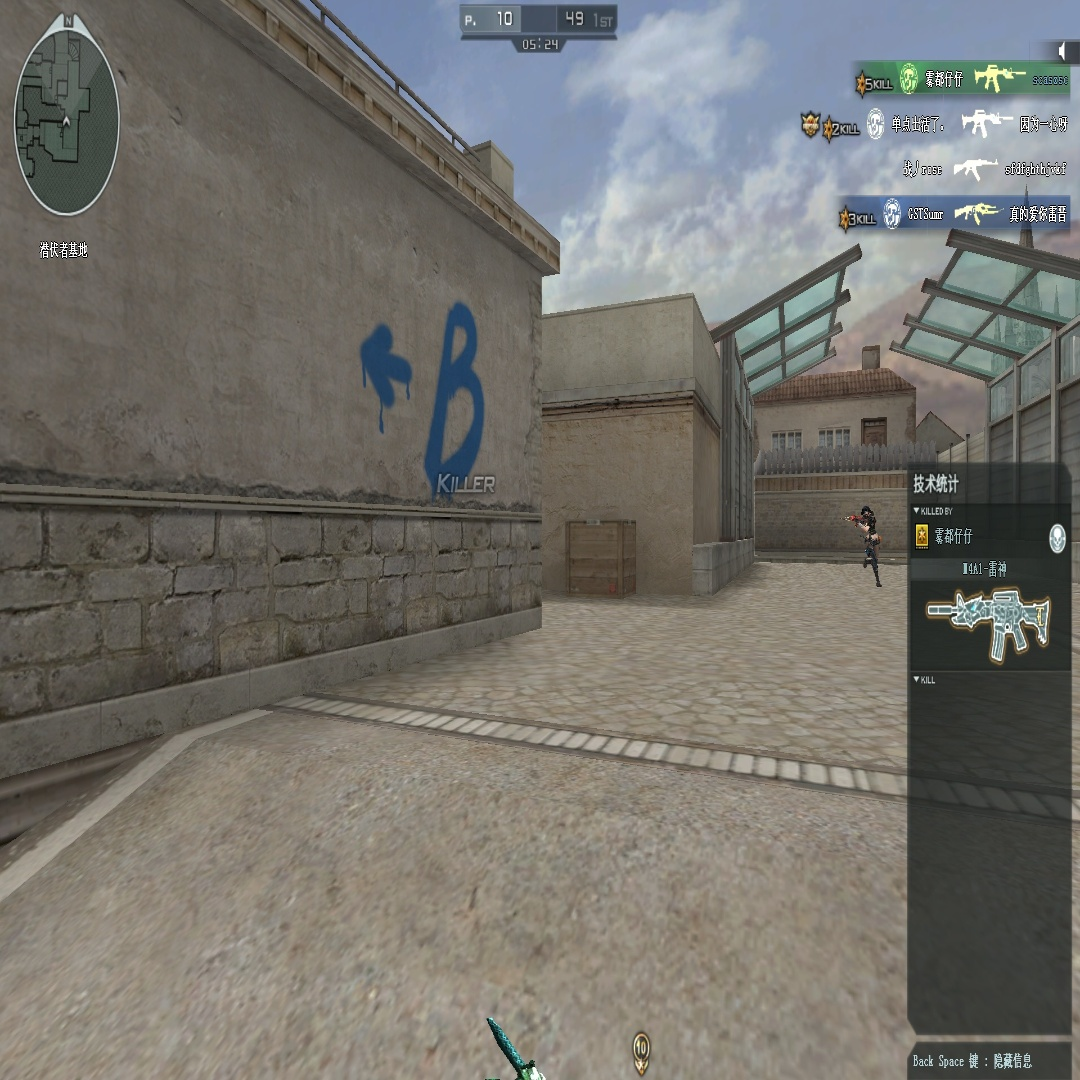p: (848, 503, 883, 588)
